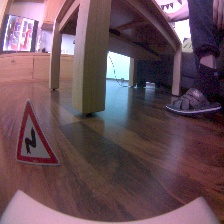vorsicht: (12, 99, 61, 166)
